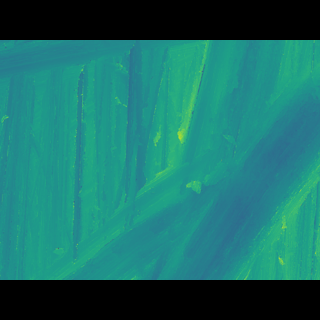Loch: (32, 86, 320, 250)
